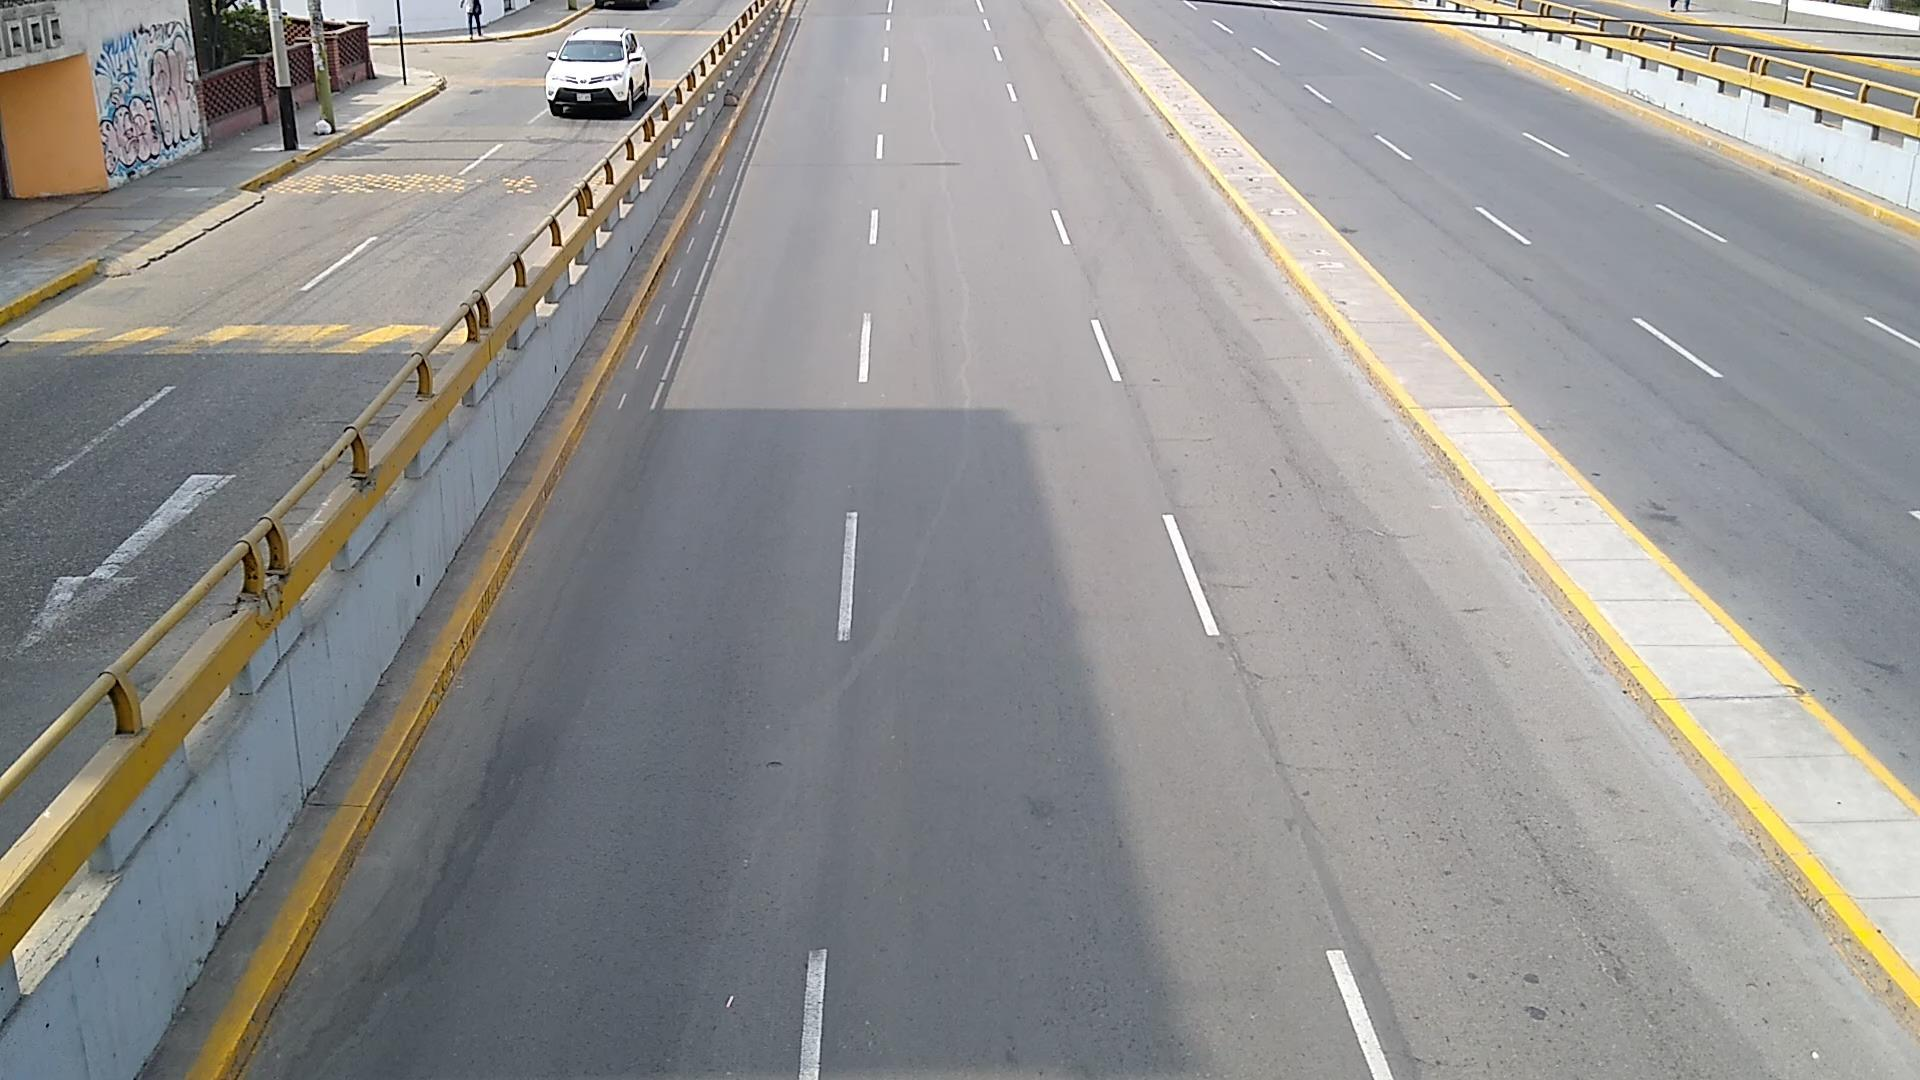car: (548, 30, 652, 116)
